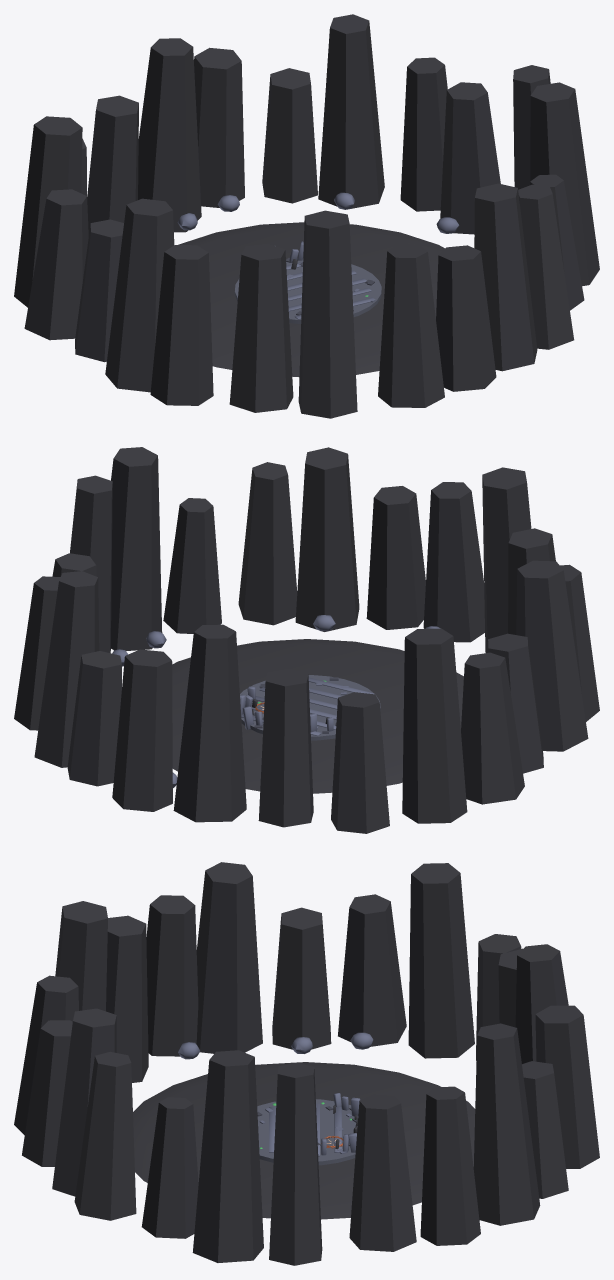
Rendered from sky_snapper.glb.
3 views of the same model, one above another, from view 1: azimuth 30°, elevation 25°; view 2: azimuth 150°, elevation 25°; view 3: azimuth 270°, elevation 25° (orthographic). The views are drawn at different scales.
Parts seen in each view (by area): view 1: SkySnapperGround; view 2: SkySnapperGround; view 3: SkySnapperGround.
Boxes of the visible parts, x1=… form: SkySnapperGround: x1=14, y1=14, x2=599, y2=418; SkySnapperGround: x1=14, y1=447, x2=599, y2=833; SkySnapperGround: x1=14, y1=862, x2=599, y2=1265.
Bounding box in the file's own units: 47.06 × 16.81 × 46.91.
1 material, 1 textured.
